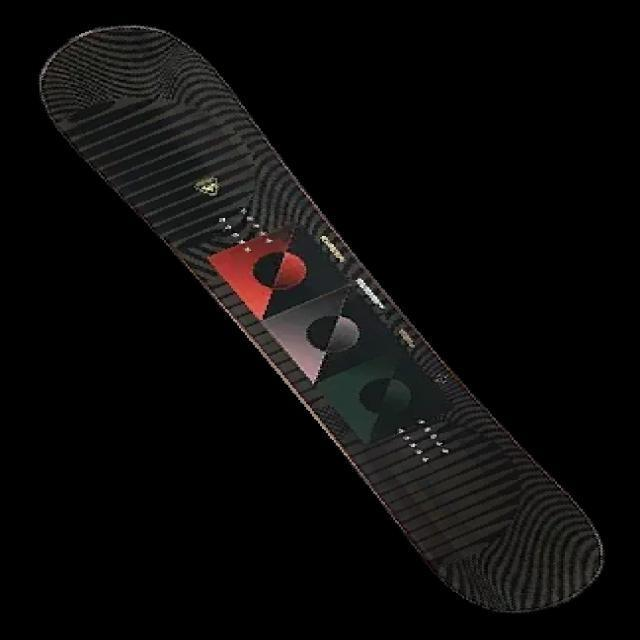Snowboard: (37, 23, 605, 614)
